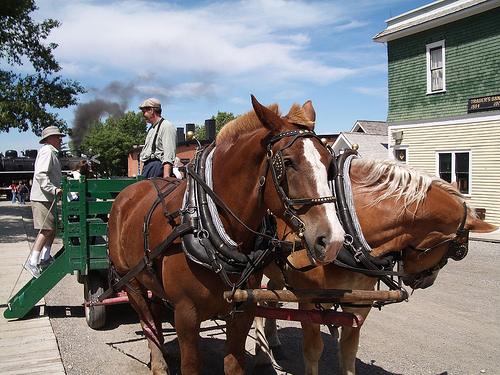horse: (106, 95, 346, 375), (249, 147, 499, 375)
